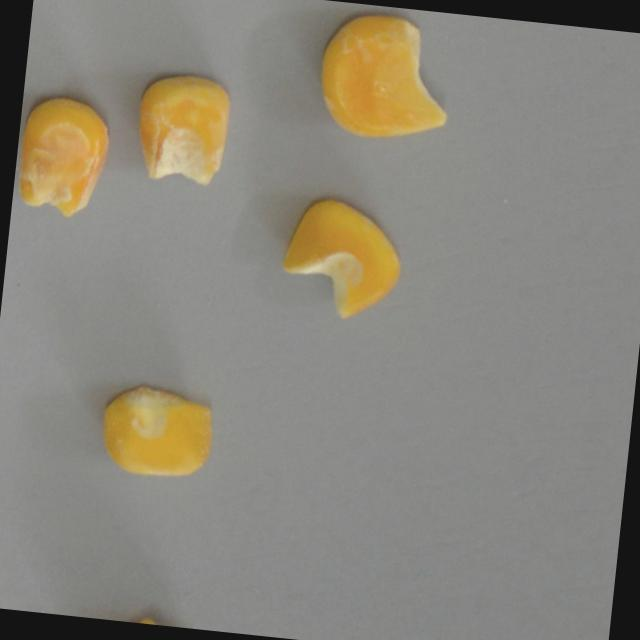no_canjicado: (312, 8, 454, 144), (275, 192, 406, 325), (94, 379, 214, 482)
pelicula: (13, 91, 110, 221), (130, 68, 232, 188)
